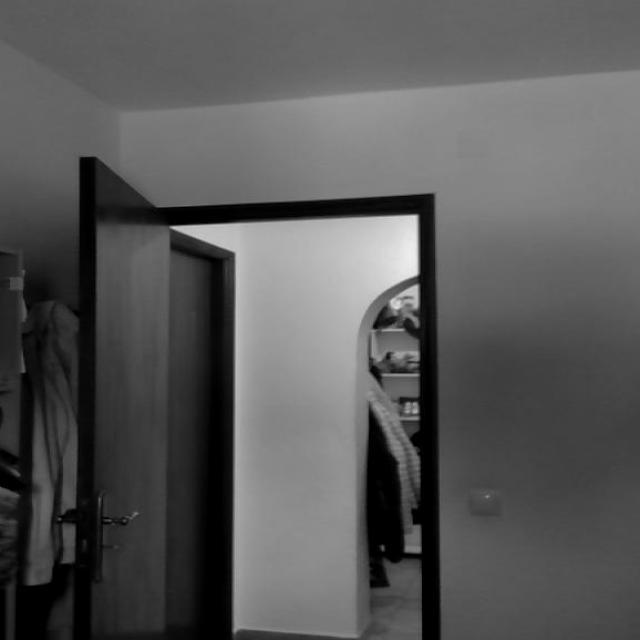door: (68, 145, 178, 637)
